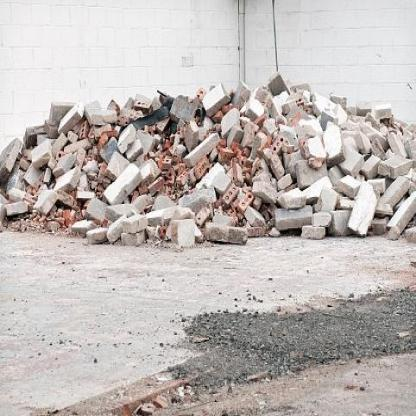brick: (0, 71, 415, 246), (133, 392, 171, 415), (353, 368, 360, 375), (360, 385, 365, 391)
